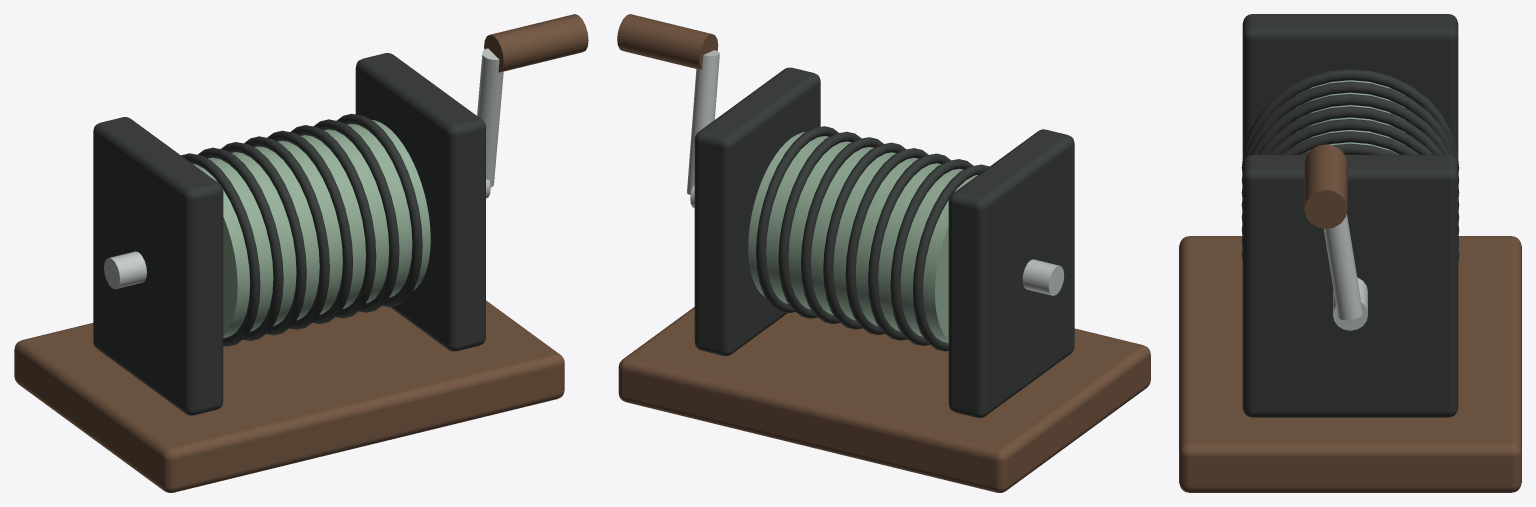
File: abandoned-telephone-exchange-ringing-generator-223a9956__32011.glb
The picture shows the model from 3 angles, left to right: view 1: azimuth 30°, elevation 25°; view 2: azimuth 150°, elevation 25°; view 3: azimuth 270°, elevation 25°; orthographic projection. The views are drawn at different scales.
Visible parts, largest first — view 1: ringing-generator; view 2: ringing-generator; view 3: ringing-generator.
Part boxes in pixels (left/top/right/bottom): ringing-generator: left=14, top=14, right=588, bottom=492; ringing-generator: left=617, top=14, right=1150, bottom=492; ringing-generator: left=1179, top=14, right=1521, bottom=492.
Size of the model in its own units: 0.62 by 0.392 by 0.35.
